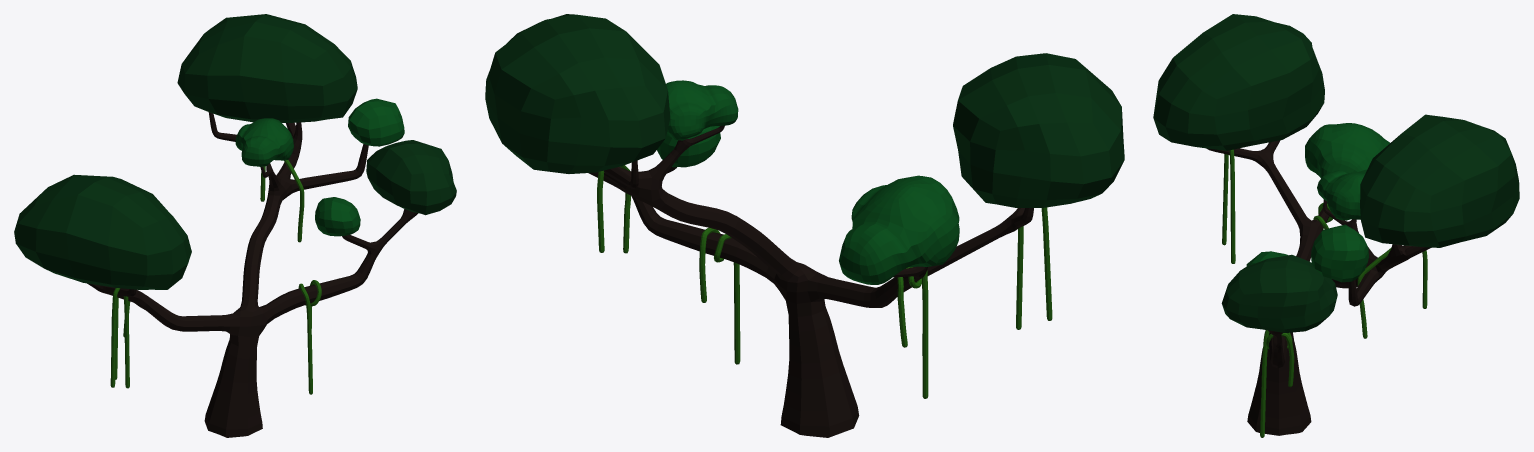
The model's file is lp_tree_2_Cube_028.obj.
3 renders of one model, left to right at view 1: azimuth 30°, elevation 25°; view 2: azimuth 150°, elevation 25°; view 3: azimuth 270°, elevation 25°, orthographic. The views are drawn at different scales.
Visible parts, largest first — view 1: lp_tree_2_Cube_028; view 2: lp_tree_2_Cube_028; view 3: lp_tree_2_Cube_028.
Part boxes in pixels (bbox=[...]): lp_tree_2_Cube_028: bbox=[14, 14, 456, 437]; lp_tree_2_Cube_028: bbox=[485, 14, 1124, 437]; lp_tree_2_Cube_028: bbox=[1153, 14, 1519, 437].
Size of the model in its own units: 32.17 by 23.47 by 21.8.
